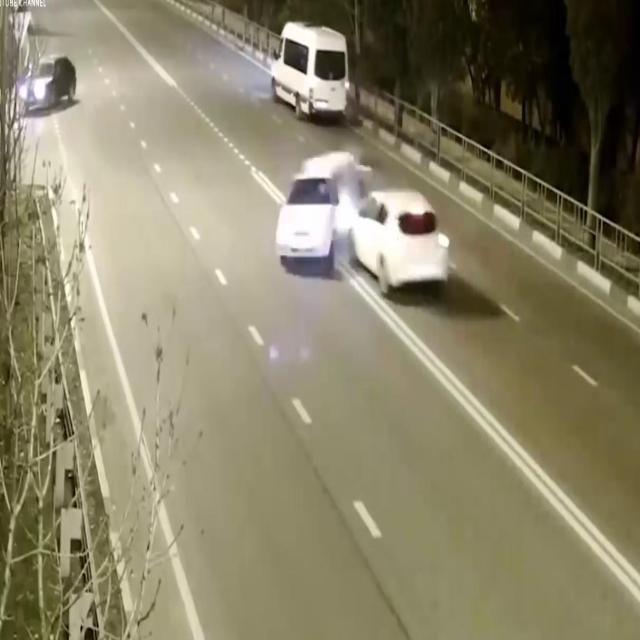accident: (272, 121, 456, 309)
